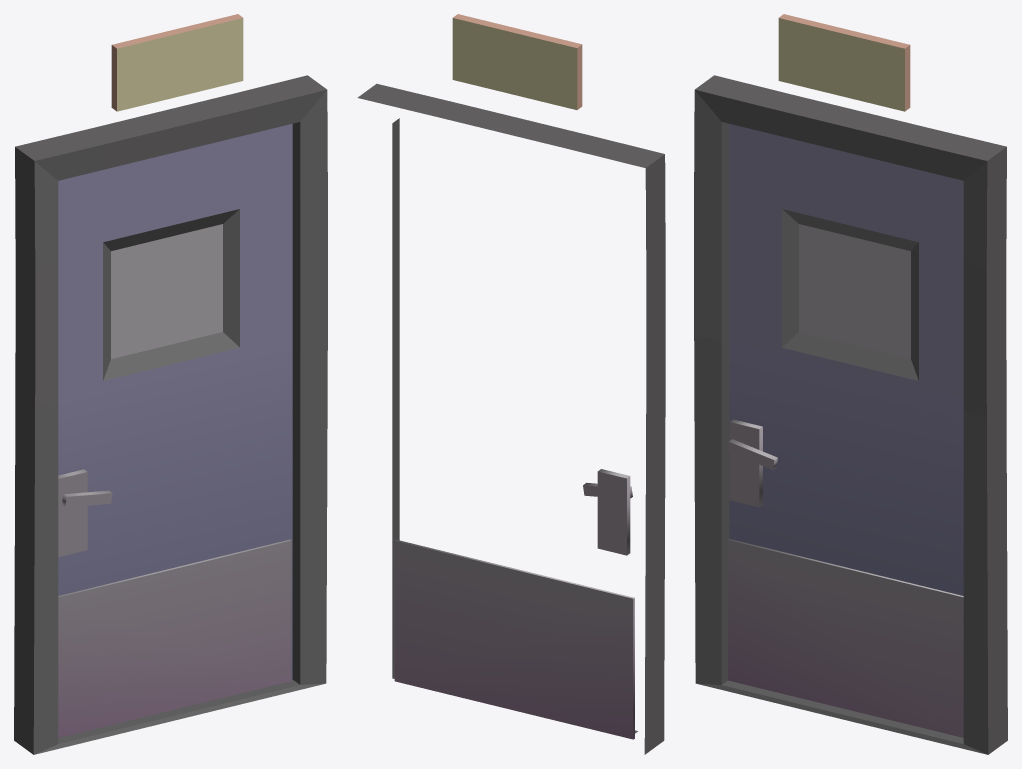
File: Garage_door_1.glb
3 views of the same model, side by side, from view 1: azimuth 30°, elevation 25°; view 2: azimuth 150°, elevation 25°; view 3: azimuth 330°, elevation 25° (orthographic).
Visible parts, largest first — view 1: Garage_door_1; view 2: Garage_door_1; view 3: Garage_door_1.
Part boxes in pixels (x1,y1,x2,y2): Garage_door_1: (14, 14, 327, 754); Garage_door_1: (357, 14, 665, 754); Garage_door_1: (694, 14, 1007, 754).
Size of the model in its own units: 11.61 by 26.01 by 1.46.
